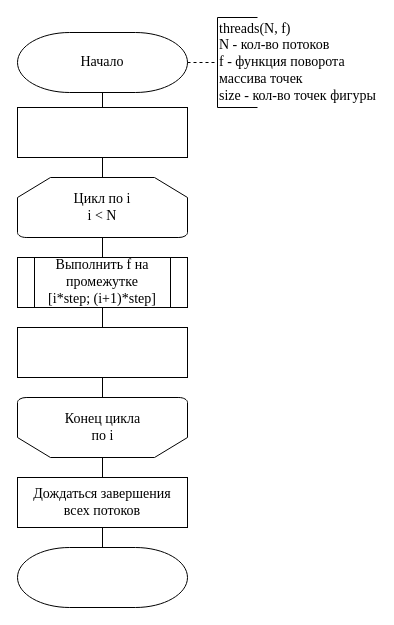
Some shapes in this 394 by 625 pixel diagram are drawn without their labels. The shapes that lost their labels are listed below. From the top down, each one's centre as x and y in pixels, then its label:
(102,132): step = size / N i = 0
(102,352): i += 1
(102,577): Конец
